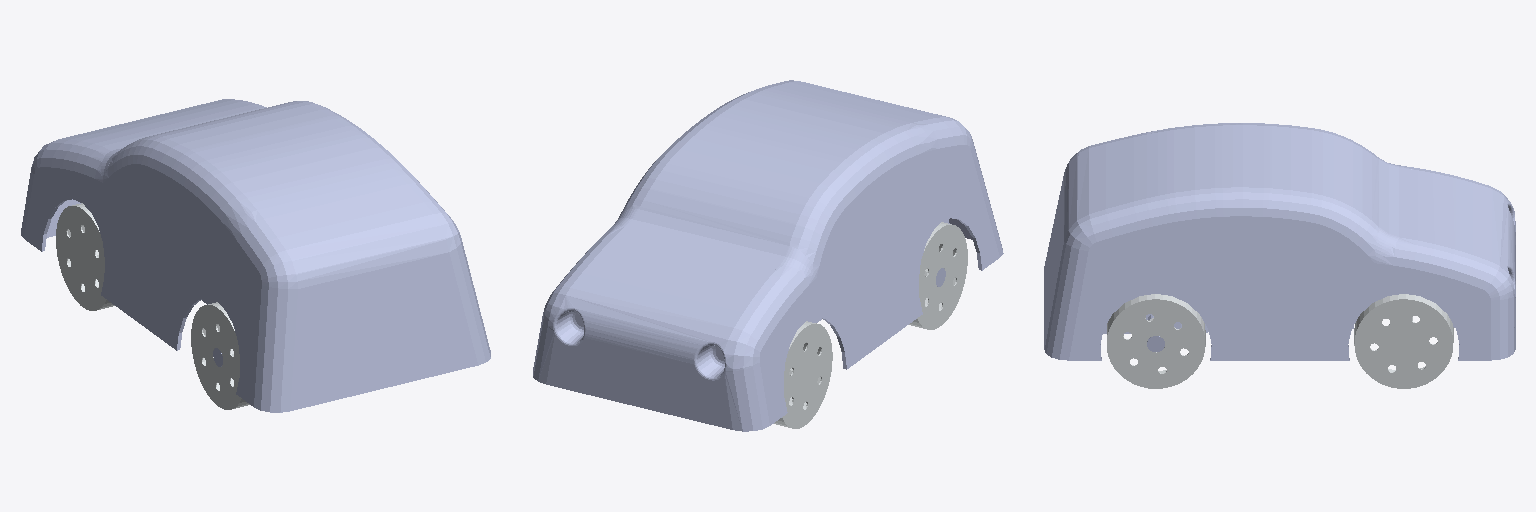
The robot description file, URDF, robot "robot_car":
<?xml version="1.0" ?>
<!-- =================================================================================== -->
<!-- |    This document was autogenerated by xacro from robot_car.urdf.xacro           | -->
<!-- |    EDITING THIS FILE BY HAND IS NOT RECOMMENDED                                 | -->
<!-- =================================================================================== -->
<!-- Name your robot here -->
<robot name="robot_car">
  <link name="dummy_link"/>
  <joint name="dummy_link_joint=" type="fixed">
    <origin rpy="0 0 0" xyz="0 0 0"/>
    <parent link="dummy_link"/>
    <child link="base_link"/>
  </joint>
  <link name="base_link">
    <inertial>
      <origin rpy="0 0 0" xyz="-4.17816467845711E-06 0.155033500569797 0.0634993481602697"/>
      <mass value="47.0663452295482"/>
      <inertia ixx="4.22292908692067" ixy="-3.82540713050327E-05" ixz="2.17423066283378E-05" iyy="0.534699589034657" iyz="0.0172908433530719" izz="4.57389499567577"/>
    </inertial>
    <visual>
      <origin rpy="0 0 0" xyz="0 0 0"/>
      <geometry>
        <mesh filename="package://robot_car/meshes/base_link.STL"/>
      </geometry>
      <material name="">
        <color rgba="0.792156862745098 0.819607843137255 0.933333333333333 1"/>
      </material>
    </visual>
    <collision>
      <origin rpy="0 0 0" xyz="0 0 0"/>
      <geometry>
        <mesh filename="package://robot_car/meshes/base_link.STL"/>
      </geometry>
    </collision>
  </link>
  <link name="r_axle_link">
    <inertial>
      <origin rpy="0 0 0" xyz="0.044591 3.0732E-09 -0.044308"/>
      <mass value="0.54732"/>
      <inertia ixx="0.00019657" ixy="1.012E-10" ixz="0.00015844" iyy="0.0011746" iyz="-1.0367E-11" izz="0.0010774"/>
    </inertial>
    <visual>
      <origin rpy="0 0 0" xyz="0 0 0"/>
      <geometry>
        <mesh filename="package://robot_car/meshes/r_axle_link.STL"/>
      </geometry>
      <material name="">
        <color rgba="0.89804 0.91765 0.92941 1"/>
      </material>
    </visual>
    <collision>
      <origin rpy="0 0 0" xyz="0 0 0"/>
      <geometry>
        <mesh filename="package://robot_car/meshes/r_axle_link.STL"/>
      </geometry>
    </collision>
  </link>
  <joint name="r_axle_joint" type="revolute">
    <origin rpy="0 0 0" xyz="0.1016 0.43592 0.0762"/>
    <parent link="base_link"/>
    <child link="r_axle_link"/>
    <axis xyz="0 0 1"/>
    <limit effort="1000" lower="-0.61" upper="0.61" velocity="0.5"/>
  </joint>
  <link name="fr_wheel_link">
    <inertial>
      <origin rpy="0 0 0" xyz="5.5511E-17 2.4286E-17 -0.030426"/>
      <mass value="1.0025"/>
      <inertia ixx="0.0043607" ixy="-1.124E-18" ixz="8.2114E-19" iyy="0.0043607" iyz="-5.2661E-19" izz="0.0075093"/>
    </inertial>
    <visual>
      <origin rpy="0 0 0" xyz="0 0 0"/>
      <geometry>
        <mesh filename="package://robot_car/meshes/fr_wheel_link.STL"/>
      </geometry>
      <material name="">
        <color rgba="0.89804 0.91765 0.92941 1"/>
      </material>
    </visual>
    <collision>
      <origin rpy="0 0 0" xyz="0 0 0"/>
      <geometry>
        <mesh filename="package://robot_car/meshes/fr_wheel_link.STL"/>
      </geometry>
    </collision>
  </link>
  <joint name="fr_wheel_joint" type="continuous">
    <origin rpy="1.5708 0 1.5708" xyz="0.127 0 -0.0508"/>
    <parent link="r_axle_link"/>
    <child link="fr_wheel_link"/>
    <axis xyz="0 0 1"/>
    <limit effort="1000" velocity="0.5"/>
  </joint>
  <link name="l_axle_link">
    <inertial>
      <origin rpy="0 0 0" xyz="-0.0445911447038466 -3.07316860848061E-09 -0.0443082836786182"/>
      <mass value="0.547317633847802"/>
      <inertia ixx="0.000196574365269895" ixy="1.01203737038273E-10" ixz="-0.000158436445636198" iyy="0.0011746456902795" iyz="1.03666036366386E-11" izz="0.00107738190106747"/>
    </inertial>
    <visual>
      <origin rpy="0 0 0" xyz="0 0 0"/>
      <geometry>
        <mesh filename="package://robot_car/meshes/l_axle_link.STL"/>
      </geometry>
      <material name="">
        <color rgba="0.898039215686275 0.917647058823529 0.929411764705882 1"/>
      </material>
    </visual>
    <collision>
      <origin rpy="0 0 0" xyz="0 0 0"/>
      <geometry>
        <mesh filename="package://robot_car/meshes/l_axle_link.STL"/>
      </geometry>
    </collision>
  </link>
  <joint name="l_axle_joint" type="revolute">
    <origin rpy="0 0 0" xyz="-0.1016 0.43592 0.0762"/>
    <parent link="base_link"/>
    <child link="l_axle_link"/>
    <axis xyz="0 0 1"/>
    <limit effort="1000" lower="-0.61" upper="0.61" velocity="0.5"/>
  </joint>
  <link name="fl_wheel_link">
    <inertial>
      <origin rpy="0 0 0" xyz="-1.66533453693773E-16 -6.93889390390723E-18 -0.0304263623336742"/>
      <mass value="1.00248274433347"/>
      <inertia ixx="0.0043607050487617" ixy="-8.55490495270943E-20" ixz="-3.06179300718463E-19" iyy="0.0043607050487617" iyz="3.75228321009424E-20" izz="0.00750931140654651"/>
    </inertial>
    <visual>
      <origin rpy="0 0 0" xyz="0 0 0"/>
      <geometry>
        <mesh filename="package://robot_car/meshes/fl_wheel_link.STL"/>
      </geometry>
      <material name="">
        <color rgba="0.898039215686275 0.917647058823529 0.929411764705882 1"/>
      </material>
    </visual>
    <collision>
      <origin rpy="0 0 0" xyz="0 0 0"/>
      <geometry>
        <mesh filename="package://robot_car/meshes/fl_wheel_link.STL"/>
      </geometry>
    </collision>
  </link>
  <joint name="fl_wheel_joint" type="continuous">
    <origin rpy="1.5708 0 -1.5708" xyz="-0.127 0 -0.0508"/>
    <parent link="l_axle_link"/>
    <child link="fl_wheel_link"/>
    <axis xyz="0 0 1"/>
    <limit effort="1000" velocity="0.5"/>
  </joint>
  <link name="rl_wheel_link">
    <inertial>
      <origin rpy="0 0 0" xyz="0 3.46944695195361E-18 -0.0304263623336755"/>
      <mass value="1.00248274433346"/>
      <inertia ixx="0.00436070504876117" ixy="1.25628055531491E-19" ixz="1.66648897421017E-19" iyy="0.00436070504876117" iyz="2.6082222710412E-20" izz="0.0075093114065465"/>
    </inertial>
    <visual>
      <origin rpy="0 0 0" xyz="0 0 0"/>
      <geometry>
        <mesh filename="package://robot_car/meshes/rl_wheel_link.STL"/>
      </geometry>
      <material name="">
        <color rgba="0.898039215686275 0.917647058823529 0.929411764705882 1"/>
      </material>
    </visual>
    <collision>
      <origin rpy="0 0 0" xyz="0 0 0"/>
      <geometry>
        <mesh filename="package://robot_car/meshes/rl_wheel_link.STL"/>
      </geometry>
    </collision>
  </link>
  <joint name="rl_wheel_joint" type="continuous">
    <origin rpy="1.5708 0 -1.5708" xyz="-0.2286 -0.072078 0.0254"/>
    <parent link="base_link"/>
    <child link="rl_wheel_link"/>
    <axis xyz="0 0 1"/>
    <limit effort="1000" velocity="0.5"/>
  </joint>
  <link name="rr_wheel_link">
    <inertial>
      <origin rpy="0 0 0" xyz="0 6.93889390390723E-18 -0.0304263623336748"/>
      <mass value="1.00248274433347"/>
      <inertia ixx="0.00436070504876132" ixy="2.78391771057784E-18" ixz="-7.84595195846635E-19" iyy="0.00436070504876133" iyz="-8.62640522217282E-19" izz="0.00750931140654648"/>
    </inertial>
    <visual>
      <origin rpy="0 0 0" xyz="0 0 0"/>
      <geometry>
        <mesh filename="package://robot_car/meshes/rr_wheel_link.STL"/>
      </geometry>
      <material name="">
        <color rgba="0.898039215686275 0.917647058823529 0.929411764705882 1"/>
      </material>
    </visual>
    <collision>
      <origin rpy="0 0 0" xyz="0 0 0"/>
      <geometry>
        <mesh filename="package://robot_car/meshes/rr_wheel_link.STL"/>
      </geometry>
    </collision>
  </link>
  <joint name="rr_wheel_joint" type="continuous">
    <origin rpy="1.5708 0 1.5708" xyz="0.2286 -0.072078 0.0254"/>
    <parent link="base_link"/>
    <child link="rr_wheel_link"/>
    <axis xyz="0 0 -1"/>
    <limit effort="100" velocity="0.5"/>
  </joint>
  <transmission name="fr_trans">
    <type>transmission_interface/SimpleTransmission</type>
    <joint name="r_axle_joint">
      <hardwareInterface>hardware_interface/EffortJointInterface</hardwareInterface>
    </joint>
    <actuator name="fr_steering">
      <mechanicalReduction>50</mechanicalReduction>
      <hardwareInterface>hardware_interface/EffortJointInterface</hardwareInterface>
    </actuator>
  </transmission>
  <transmission name="fl_trans">
    <type>transmission_interface/SimpleTransmission</type>
    <joint name="l_axle_joint">
      <hardwareInterface>hardware_interface/EffortJointInterface</hardwareInterface>
    </joint>
    <actuator name="fl_steering">
      <mechanicalReduction>50</mechanicalReduction>
      <hardwareInterface>hardware_interface/EffortJointInterface</hardwareInterface>
    </actuator>
  </transmission>
  <transmission name="rr_trans">
    <type>transmission_interface/SimpleTransmission</type>
    <joint name="rr_wheel_joint">
      <hardwareInterface>hardware_interface/VelocityJointInterface</hardwareInterface>
    </joint>
    <actuator name="rr_wheel">
      <mechanicalReduction>50</mechanicalReduction>
      <hardwareInterface>hardware_interface/VelocityJointInterface</hardwareInterface>
    </actuator>
  </transmission>
  <transmission name="rl_trans">
    <type>transmission_interface/SimpleTransmission</type>
    <joint name="rl_wheel_joint">
      <hardwareInterface>hardware_interface/VelocityJointInterface</hardwareInterface>
    </joint>
    <actuator name="rl_wheel">
      <mechanicalReduction>50</mechanicalReduction>
      <hardwareInterface>hardware_interface/VelocityJointInterface</hardwareInterface>
    </actuator>
  </transmission>
  <link name="base_laser">
    <inertial>
      <origin rpy="0 0 0" xyz="-0.00029774 0.0066667 0.00013047"/>
      <mass value="0.15717"/>
      <inertia ixx="6.7885E-05" ixy="-1.3987E-07" ixz="-8.1554E-07" iyy="0.00013173" iyz="-9.0932E-08" izz="7.1972E-05"/>
    </inertial>
    <visual>
      <origin rpy="0 0 0" xyz="0 0 0"/>
      <geometry>
        <mesh filename="package://robot_car/meshes/ydlidar.dae"/>
      </geometry>
      <material name="">
        <color rgba="0.64706 0.61961 0.58824 1"/>
      </material>
    </visual>
    <collision>
      <origin rpy="0 0 0" xyz="0 0 0"/>
      <geometry>
        <mesh filename="package://robot_car/meshes/ydlidar.dae"/>
      </geometry>
    </collision>
  </link>
  <link name="laser_frame">
    <inertial>
      <origin rpy="0 0 0" xyz="-0.00036659 0.00064155 -0.00027052"/>
      <mass value="0.25482"/>
      <inertia ixx="8.9194E-05" ixy="1.8116E-07" ixz="3.6435E-08" iyy="0.00018279" iyz="2.423E-07" izz="0.00011103"/>
    </inertial>
    <!--visual>
      <origin
        xyz="0 0 0"
        rpy="0 0 0" />
      <geometry>
        <mesh
          filename="package://robot_car/meshes/ydlidar.dae" />
      </geometry>
      <material
        name="">
        <color
          rgba="0.64706 0.61961 0.58824 1" />
      </material>
    </visual-->
    <!--collision>
      <origin
        xyz="0 0 0"
        rpy="0 0 0" />
      <geometry>
        <mesh
          filename="package://robot_car/meshes/ydlidar.dae" />
      </geometry>
    </collision-->
  </link>
  <joint name="laser_joint" type="fixed">
    <origin rpy="0 0 0" xyz="0 0 0.03172"/>
    <parent link="base_laser"/>
    <child link="laser_frame"/>
    <axis xyz="0 0 0"/>
  </joint>
  <!-- Add your gazebo sensors here -->
  <gazebo reference="base_laser">
    <!-- <gravity>true</gravity> -->
    <!-- Gazebo has fixed set of Sensors types. Check them out here <> -->
    <sensor name="laser" type="ray">
      <!-- Add in your sensor characteristics -->
      <pose> 0 0 0 0 0 0 </pose>
      <visualise>true</visualise>
      <update_rate>40</update_rate>
      <!-- <always_on>true</always_on> -->
      <ray>
        <scan>
          <horizontal>
            <samples>720</samples>
            <resolution>1</resolution>
            <min_angle>-1.570796</min_angle>
            <max_angle>1.570796</max_angle>
          </horizontal>
        </scan>
        <range>
          <min>0.10</min>
          <max>30.0</max>
          <resolution>0.01</resolution>
        </range>
        <noise>
          <type>gaussian</type>
          <mean>0.0</mean>
          <stddev>0.01</stddev>
        </noise>
      </ray>
      <plugin filename="libgazebo_ros_laser.so" name="gazebo_ros_head_hokuyo_controller">
        <!-- Use topic name as /my_robot/scan -->
        <topicName>/robot_car/scan</topicName>
        <frameName>laser_frame</frameName>
      </plugin>
    </sensor>
  </gazebo>
  <!--  Gazebo plugin for control here is already added for you -->
  <gazebo>
    <plugin filename="libgazebo_ros_control.so" name="gazebo_ros_control">
      <robotNamespace>/robot_car</robotNamespace>
      <robotSimType>gazebo_ros_control/DefaultRobotHWSim</robotSimType>
      <legacyModeNS>true</legacyModeNS>
    </plugin>
  </gazebo>
  <!-- Create a joint between your robot and sensor -->
  <joint name="lidar_joint" type="fixed">
    <origin rpy="0 0 0" xyz="0 0 0.345"/>
    <parent link="base_link"/>
    <child link="base_laser"/>
    <axis xyz="0 0 0"/>
  </joint>
</robot>

--- What the picture shows (computed from the rendered views, not written in the file) ---
The picture shows the robot from 3 angles, left to right: view 1: azimuth 30°, elevation 25°; view 2: azimuth 150°, elevation 25°; view 3: azimuth 270°, elevation 25°; orthographic projection.
Robot: robot_car — 10 links, 9 joints (2 revolute, 4 continuous, 3 fixed); root link dummy_link; default pose: all joints at 0.
Visible links, largest first — view 1: base_link, rl_wheel_link, fl_wheel_link; view 2: base_link, rl_wheel_link, fl_wheel_link; view 3: base_link, fr_wheel_link, rr_wheel_link.
Link boxes in pixels (box(x1,y1,x2,y2)): base_link: box(21, 99, 490, 412); rl_wheel_link: box(191, 302, 249, 409); fl_wheel_link: box(56, 203, 114, 310); base_link: box(533, 80, 1003, 431); rl_wheel_link: box(909, 222, 967, 329); fl_wheel_link: box(774, 321, 832, 428); base_link: box(1044, 123, 1515, 360); fr_wheel_link: box(1354, 294, 1453, 388); rr_wheel_link: box(1107, 294, 1205, 388).
Bounding box of the posed robot: 0.508 × 0.9652 × 0.4198 m (x, y, z).
Meshes: 8 distinct files referenced, 7 mesh visuals loaded (7 binary STL); not drawn: 1 (reference not matched to a file when rendering).
